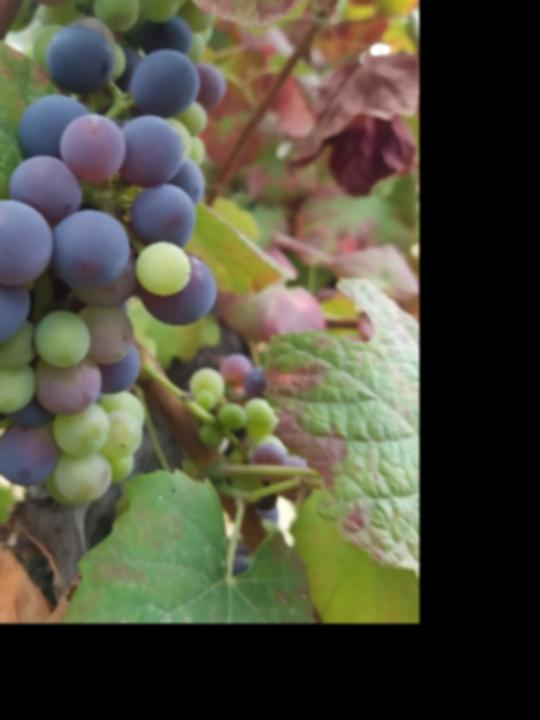grape: (0, 15, 222, 510)
